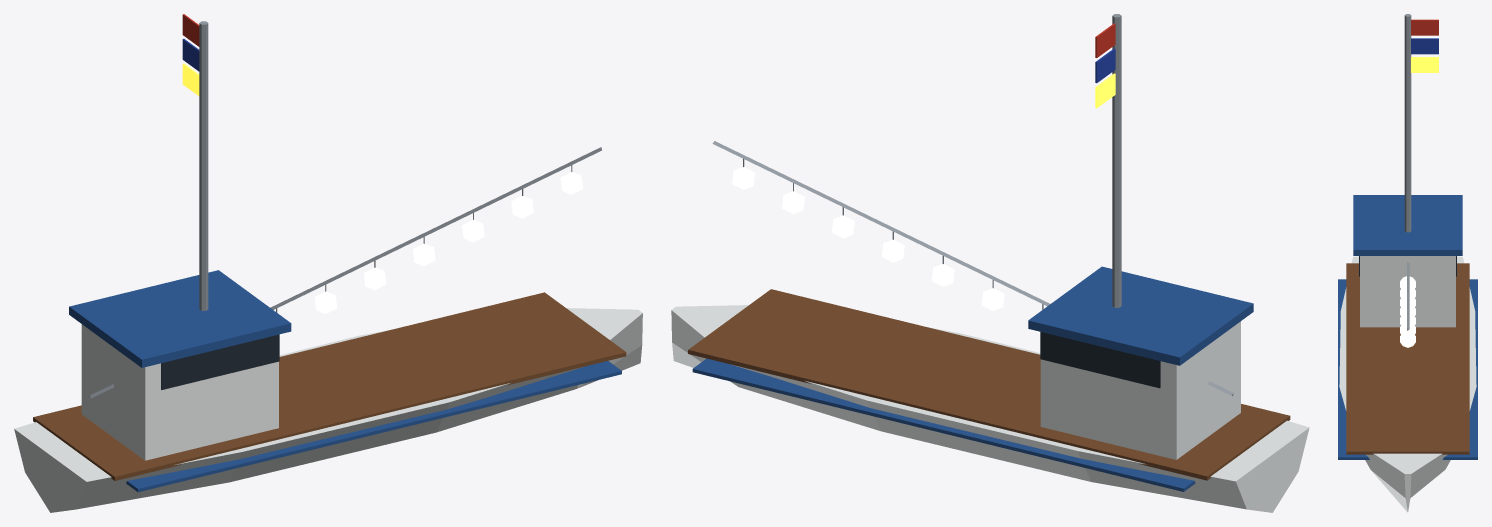
File: fiskebat_jp.glb
3 views of the same model, side by side, from view 1: azimuth 30°, elevation 25°; view 2: azimuth 150°, elevation 25°; view 3: azimuth 270°, elevation 25° (orthographic). The views are drawn at different scales.
Visible parts, largest first — view 1: fiskebat_jp; view 2: fiskebat_jp; view 3: fiskebat_jp.
Boxes of the visible parts, box(x1,y1,x2,y2) form: fiskebat_jp: box(14, 14, 642, 512); fiskebat_jp: box(671, 14, 1309, 512); fiskebat_jp: box(1338, 14, 1477, 512).
Size of the model in its own units: 15 by 11.2 by 4.08.
